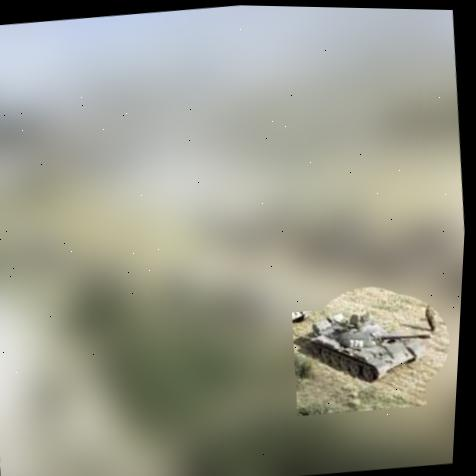tank: (295, 298, 435, 392)
